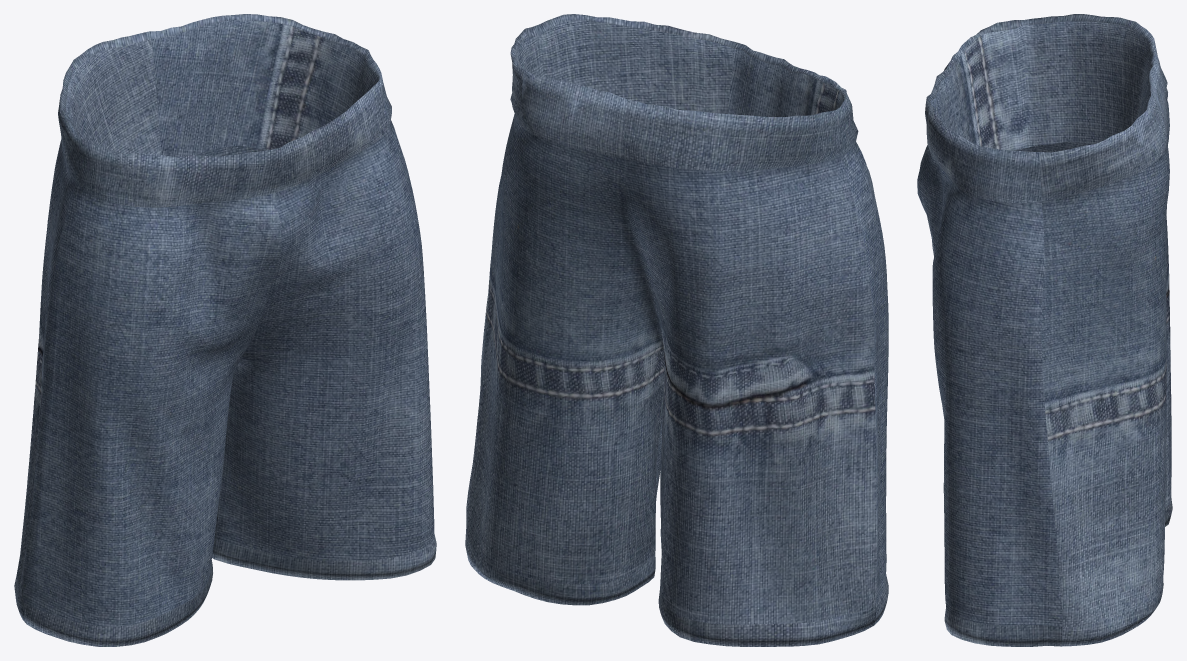
Rendered from shorts.glb.
3 views of the same model, side by side, from view 1: azimuth 30°, elevation 25°; view 2: azimuth 150°, elevation 25°; view 3: azimuth 270°, elevation 25° (orthographic). The views are drawn at different scales.
Visible parts, largest first — view 1: Object_2; view 2: Object_2; view 3: Object_2.
Boxes of the visible parts, x1=… form: Object_2: x1=14, y1=14, x2=436, y2=646; Object_2: x1=465, y1=14, x2=888, y2=646; Object_2: x1=917, y1=14, x2=1172, y2=646.
Bounding box in the file's own units: 0.4904 × 0.6261 × 0.2905.
1 material, 1 textured.
